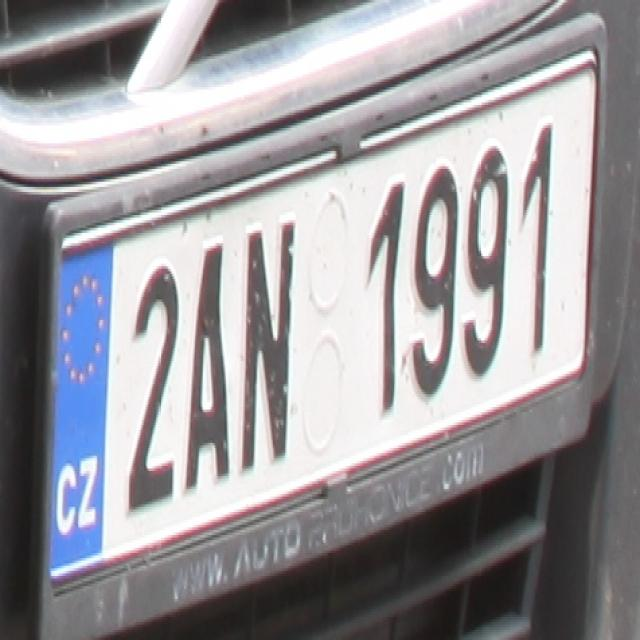1: (367, 184, 406, 415), (524, 123, 552, 353)
2: (128, 266, 182, 517)
9: (413, 166, 457, 394), (467, 144, 508, 376)
A: (187, 238, 234, 492)
N: (241, 218, 293, 471)
